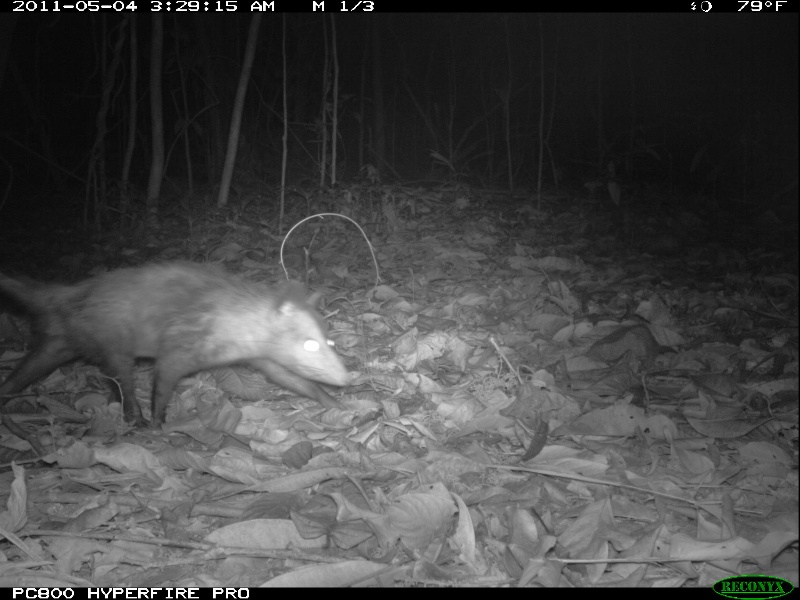opossum: (1, 257, 355, 428)
